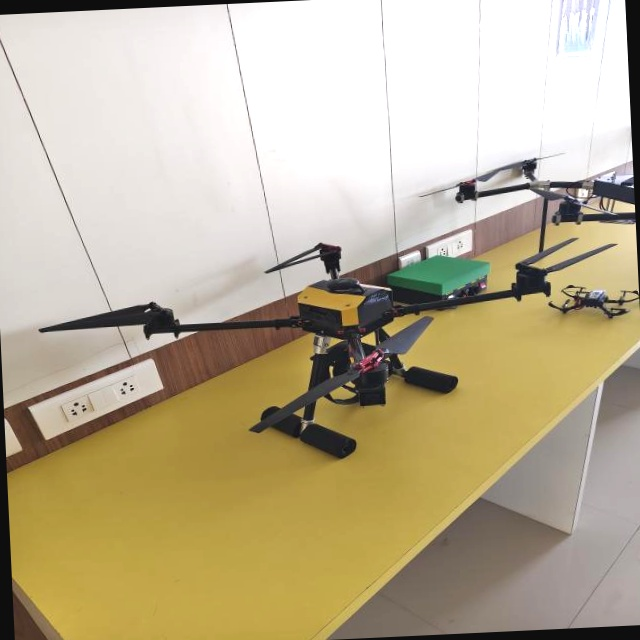quadcopter: (25, 212, 628, 474)
